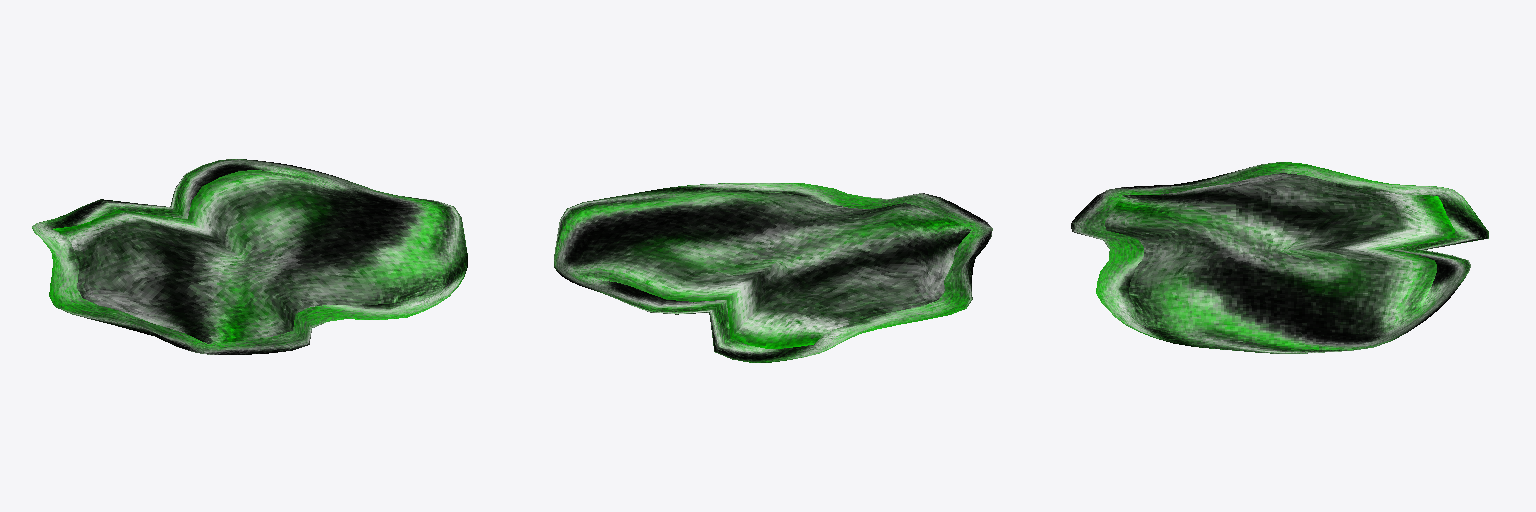
The picture shows the model from 3 angles: view 1: azimuth 30°, elevation 25°; view 2: azimuth 150°, elevation 25°; view 3: azimuth 270°, elevation 25°; orthographic projection.
Parts seen in each view (by area): view 1: Cube.003; view 2: Cube.003; view 3: Cube.003.
Part boxes in pixels (x1,y1,x2,y2): Cube.003: (32,159,467,354); Cube.003: (554,183,992,362); Cube.003: (1071,162,1488,353).
Size of the model in its own units: 2.46 by 0.153 by 2.23.
1 materials, 1 textured.